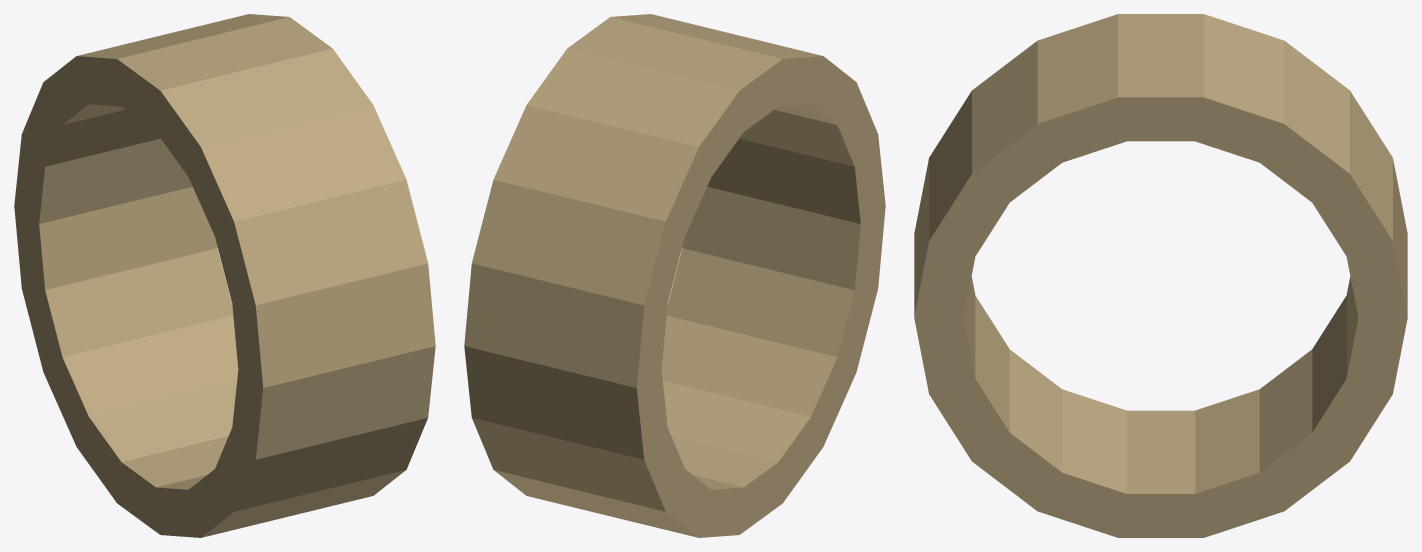
Rendered from Pipe_Large_Middle_1_Sewer_Environment.FBX.
3 renders of one model, left to right at view 1: azimuth 30°, elevation 25°; view 2: azimuth 150°, elevation 25°; view 3: azimuth 270°, elevation 25°, orthographic.
Visible parts, largest first — view 1: Rohr_groß; view 2: Rohr_groß; view 3: Rohr_groß.
Boxes of the visible parts, x1=… form: Rohr_groß: x1=14, y1=14, x2=435, y2=537; Rohr_groß: x1=464, y1=14, x2=885, y2=537; Rohr_groß: x1=914, y1=14, x2=1407, y2=537.
Bounding box in the file's own units: 100 × 246 × 250.
